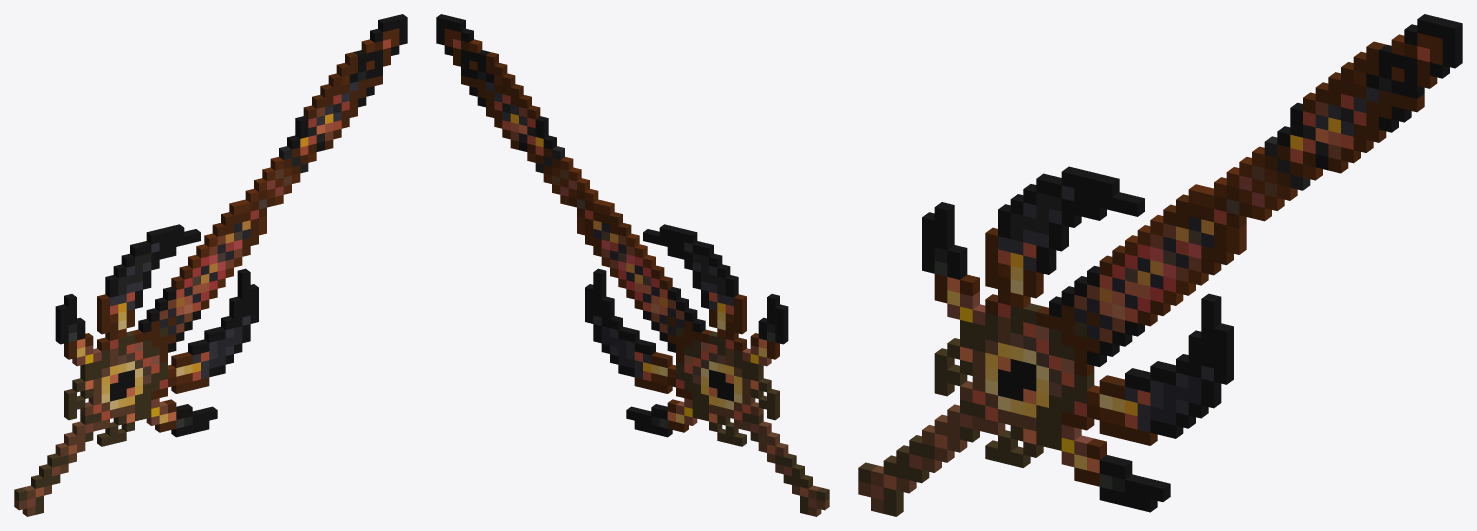
Rendered from DragonSword.obj.
3 views of the same model, side by side, from view 1: azimuth 30°, elevation 25°; view 2: azimuth 150°, elevation 25°; view 3: azimuth 330°, elevation 25° (orthographic). The views are drawn at different scales.
Size of the model in its own units: 4.7 by 4.7 by 0.1.
1 material, 1 textured.
